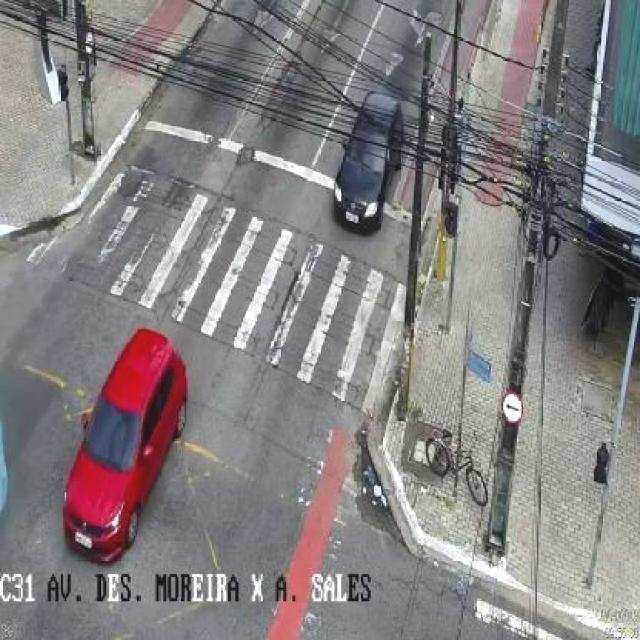Car: (61, 324, 198, 563), (325, 53, 412, 247)
